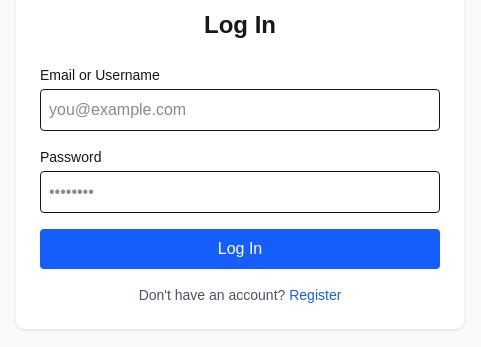
Test: LoginPage › handles form submission loading state
In the field labelled "Email or Username": x=240, y=110 left=40, top=89, right=440, bottom=131, type "test@example.com"
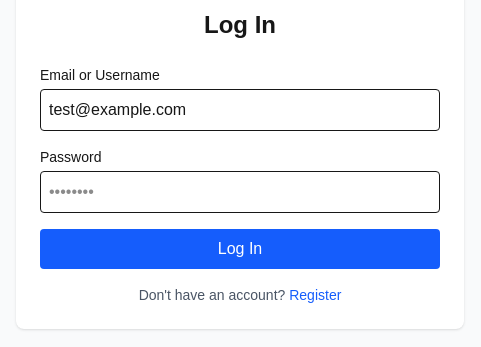
In the password field labelled "Password": x=240, y=192 left=40, top=171, right=440, bottom=213, type "password123"
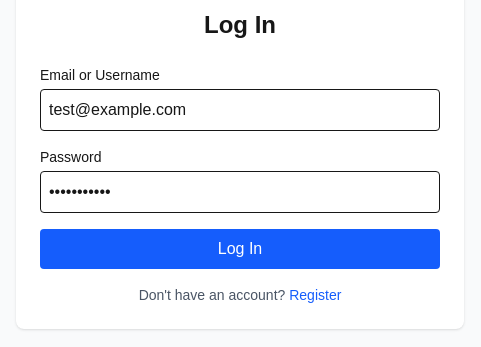
Click the button "Log In": x=240, y=249 left=40, top=229, right=440, bottom=269
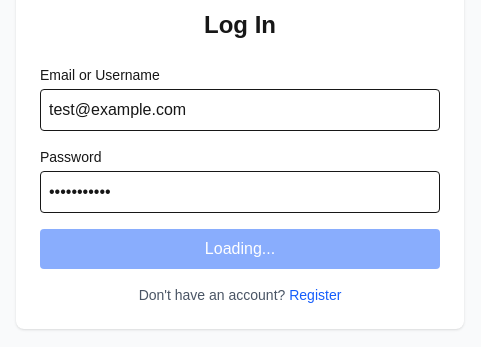
Result: the button "Loading..." is disabled at left=40, top=229, right=440, bottom=269
